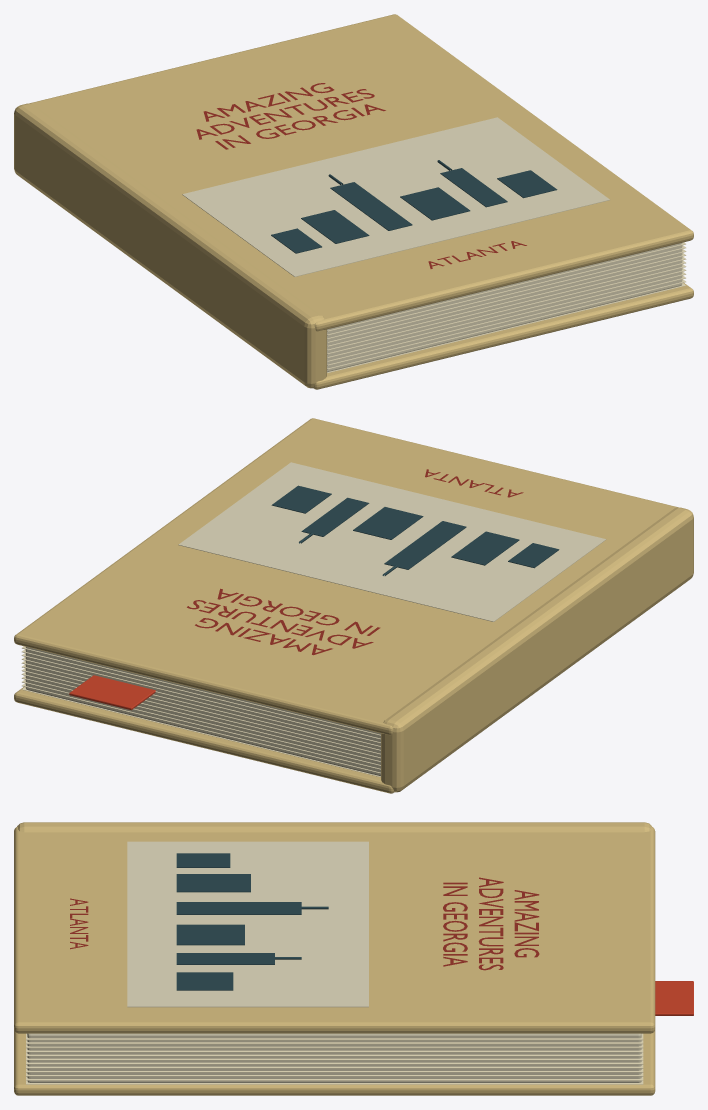
The model's file is georgia.glb.
3 views of the same model, one above another, from view 1: azimuth 30°, elevation 25°; view 2: azimuth 150°, elevation 25°; view 3: azimuth 270°, elevation 25° (orthographic). The views are drawn at different scales.
Parts seen in each view (by area): view 1: Lower board; view 2: Lower board; view 3: Lower board.
Part boxes in pixels (x1,y1,x2,y2): Lower board: (14, 14, 693, 389); Lower board: (14, 418, 693, 793); Lower board: (14, 822, 693, 1095).
Size of the model in its own units: 0.1605 by 0.0282 by 0.228.
